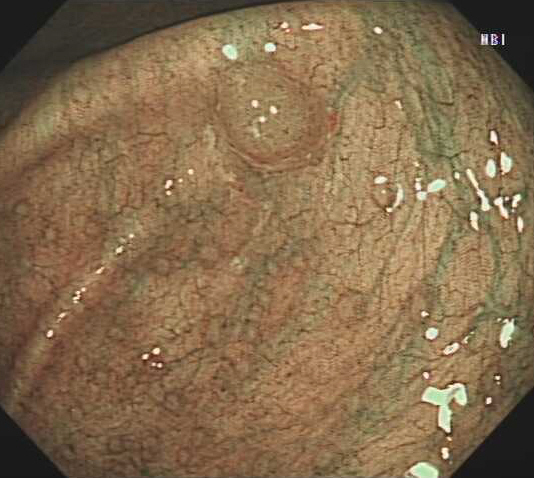adenoma: (210, 60, 327, 167)
